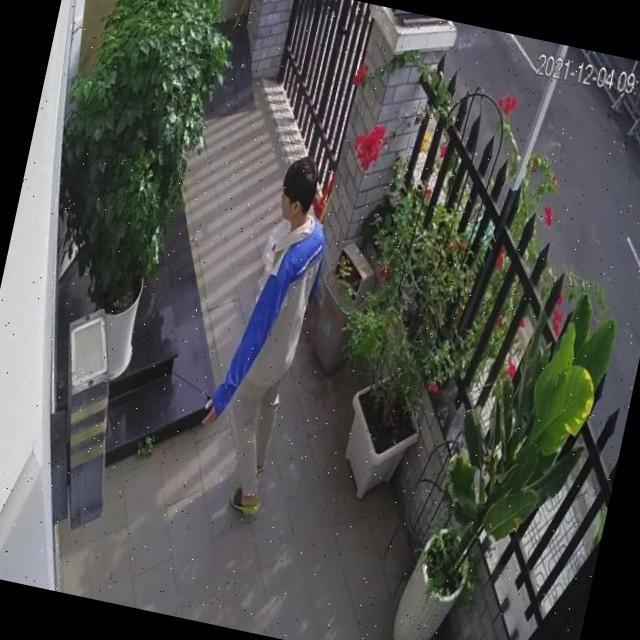person: (184, 147, 341, 520)
